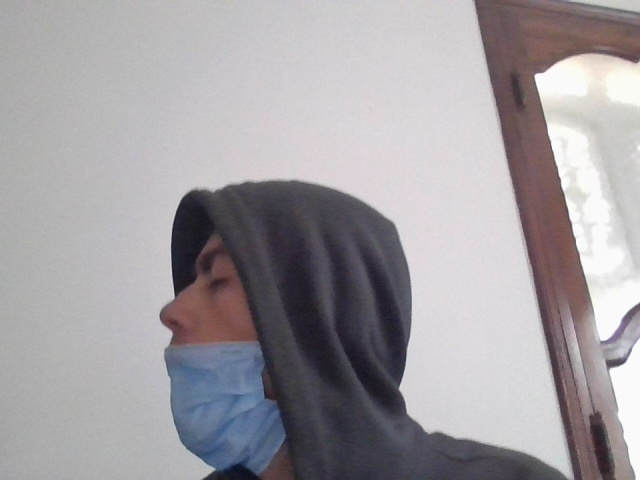mask_weared_incorrect: (151, 221, 303, 479)
